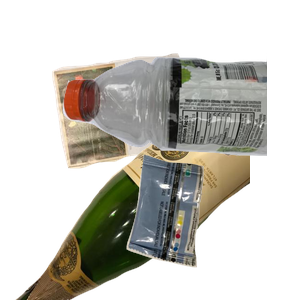glass: (13, 120, 253, 300)
paper: (49, 51, 235, 212)
plastic: (60, 53, 300, 201)
trash: (124, 152, 300, 300)
